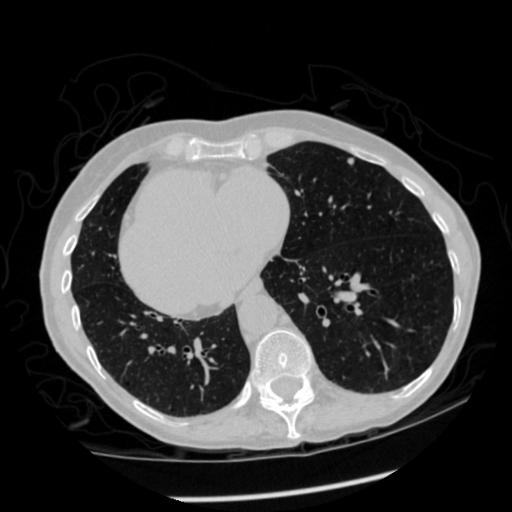nodule: (346, 155, 359, 168)
